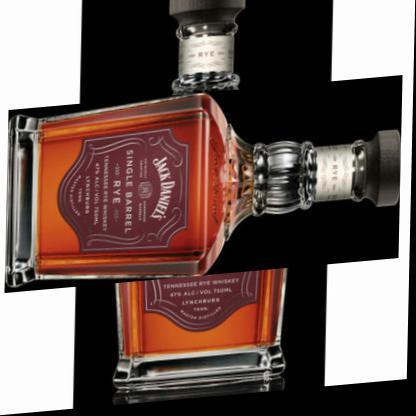alcohol: (57, 33, 352, 343)
